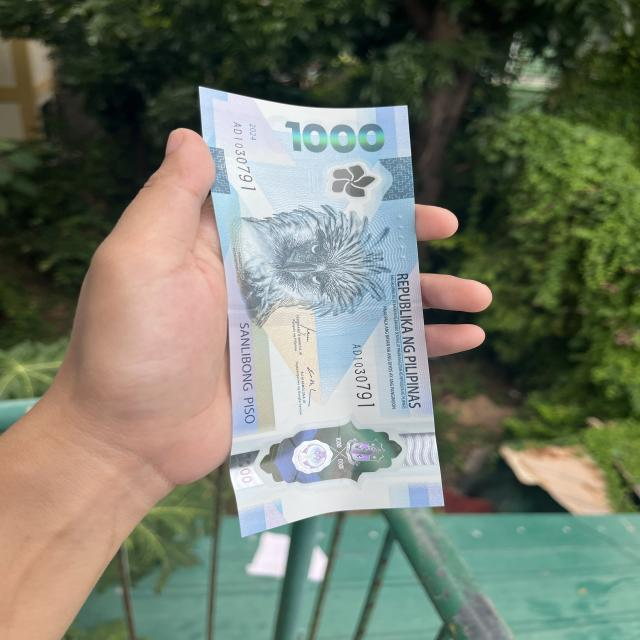clear_window: (232, 418, 437, 493)
eagle: (231, 205, 382, 314)
sampaguita: (304, 159, 380, 204)
security_thread: (226, 310, 424, 326)
serial_number: (341, 334, 389, 414), (230, 119, 257, 193)
